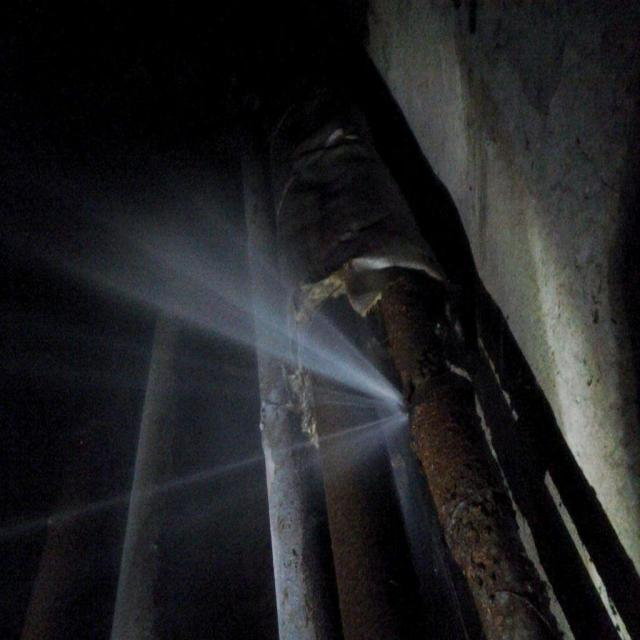leak: (0, 158, 409, 624)
